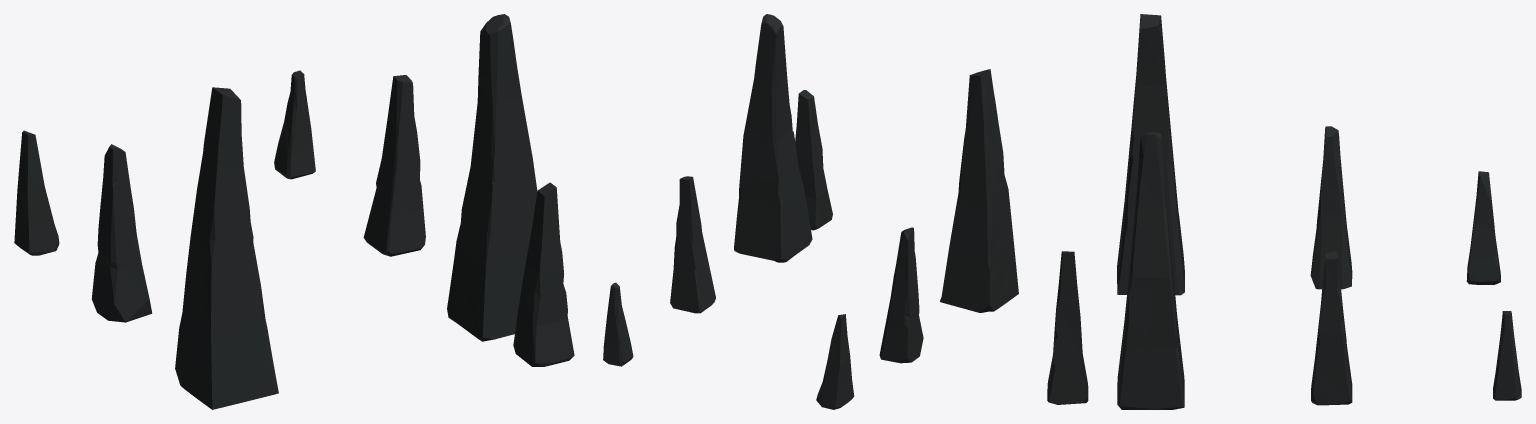
Rendered from Portal_01.FBX.
3 renders of one model, left to right at view 1: azimuth 30°, elevation 25°; view 2: azimuth 150°, elevation 25°; view 3: azimuth 270°, elevation 25°, orthographic. The views are drawn at different scales.
Parts seen in each view (by area): view 1: Portal_01; view 2: Portal_01; view 3: Portal_01.
Boxes of the visible parts, x1,y1,x2,y2 form: Portal_01: [14, 14, 574, 409]; Portal_01: [603, 14, 1018, 409]; Portal_01: [1047, 14, 1521, 409].
Size of the model in its own units: 4.59 by 3.95 by 6.37.
